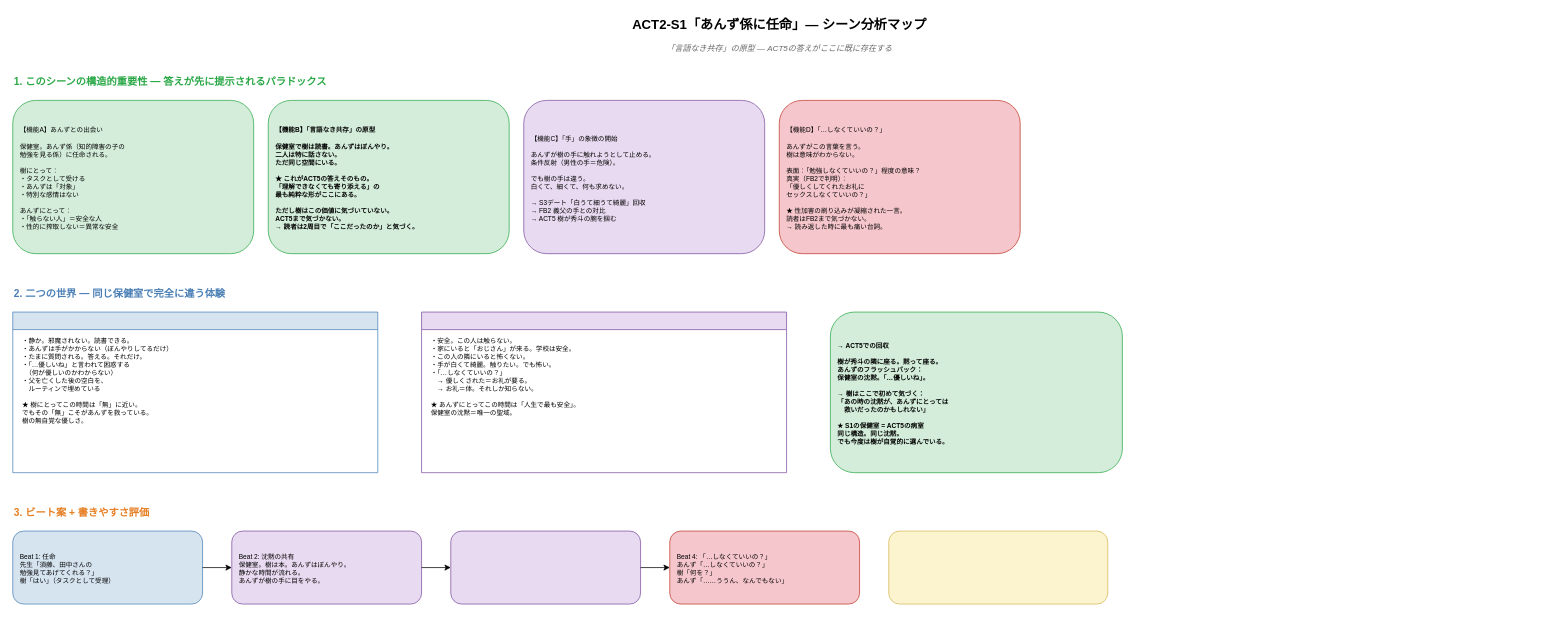
The diagram is 1559 pixels wide and 617 high, and some of its shapes have lost their labels. Here are the shapes that lost their labels. From the top down, the box of each, then its label:
(12, 311, 378, 473): 樹の保健室
(421, 311, 787, 473): あんずの保健室
(450, 530, 641, 604): Beat 3: 「優しいね」 あんず「…優しいね」 樹「何が？」 あんず（答えない。微笑む）
(888, 530, 1108, 604): ★ 書きやすさ：最高 場所固定（保健室）。登場人物2人。 会話は最小限。沈黙が主体。 1000字以内で全ビート可能。 感情描写少なめでASD特性と一致。
